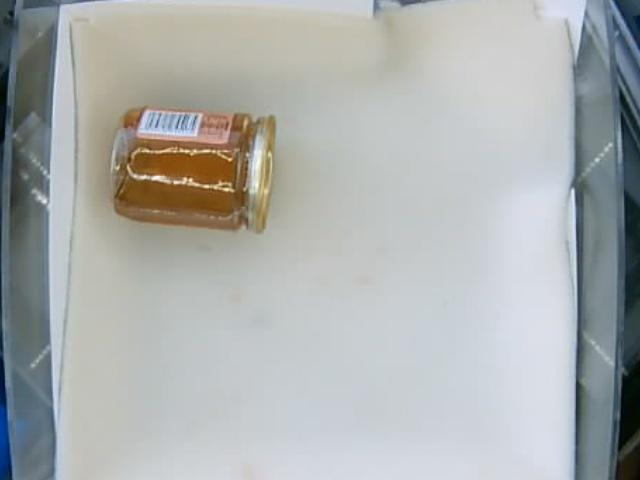Bottle: (110, 106, 276, 234)
